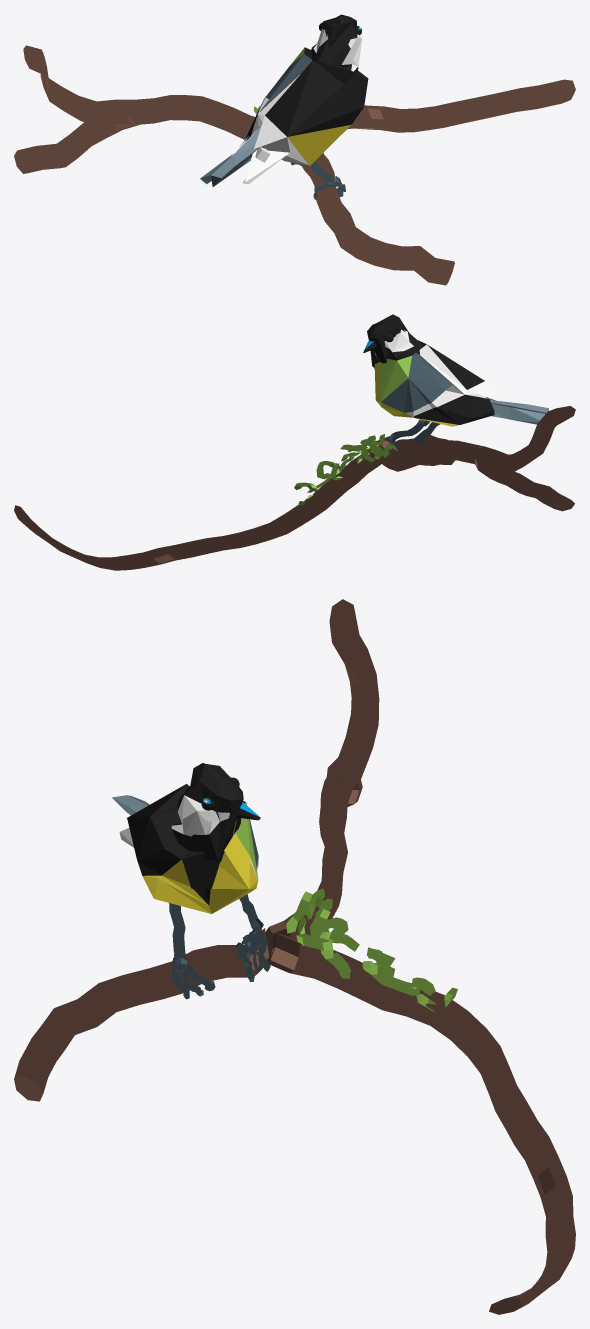
The model's file is Bird-top.glb.
The picture shows the model from 3 angles, top to bottom: view 1: azimuth 30°, elevation 25°; view 2: azimuth 150°, elevation 25°; view 3: azimuth 270°, elevation 25°; orthographic projection. The views are drawn at different scales.
Parts seen in each view (by area): view 1: Node; view 2: Node; view 3: Node.
Boxes of the visible parts, x1,y1,x2,y2 form: Node: (14, 14, 575, 285); Node: (14, 314, 575, 570); Node: (14, 599, 575, 1314).
Bounding box in the file's own units: 5.43 × 2.23 × 3.2.
